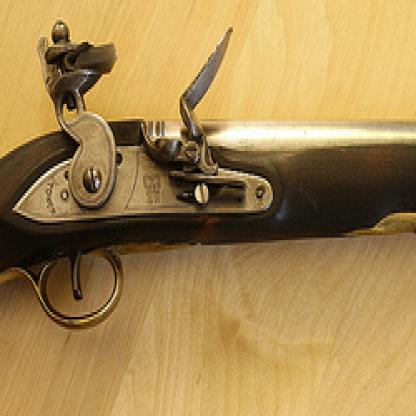gun: (0, 7, 415, 414)
